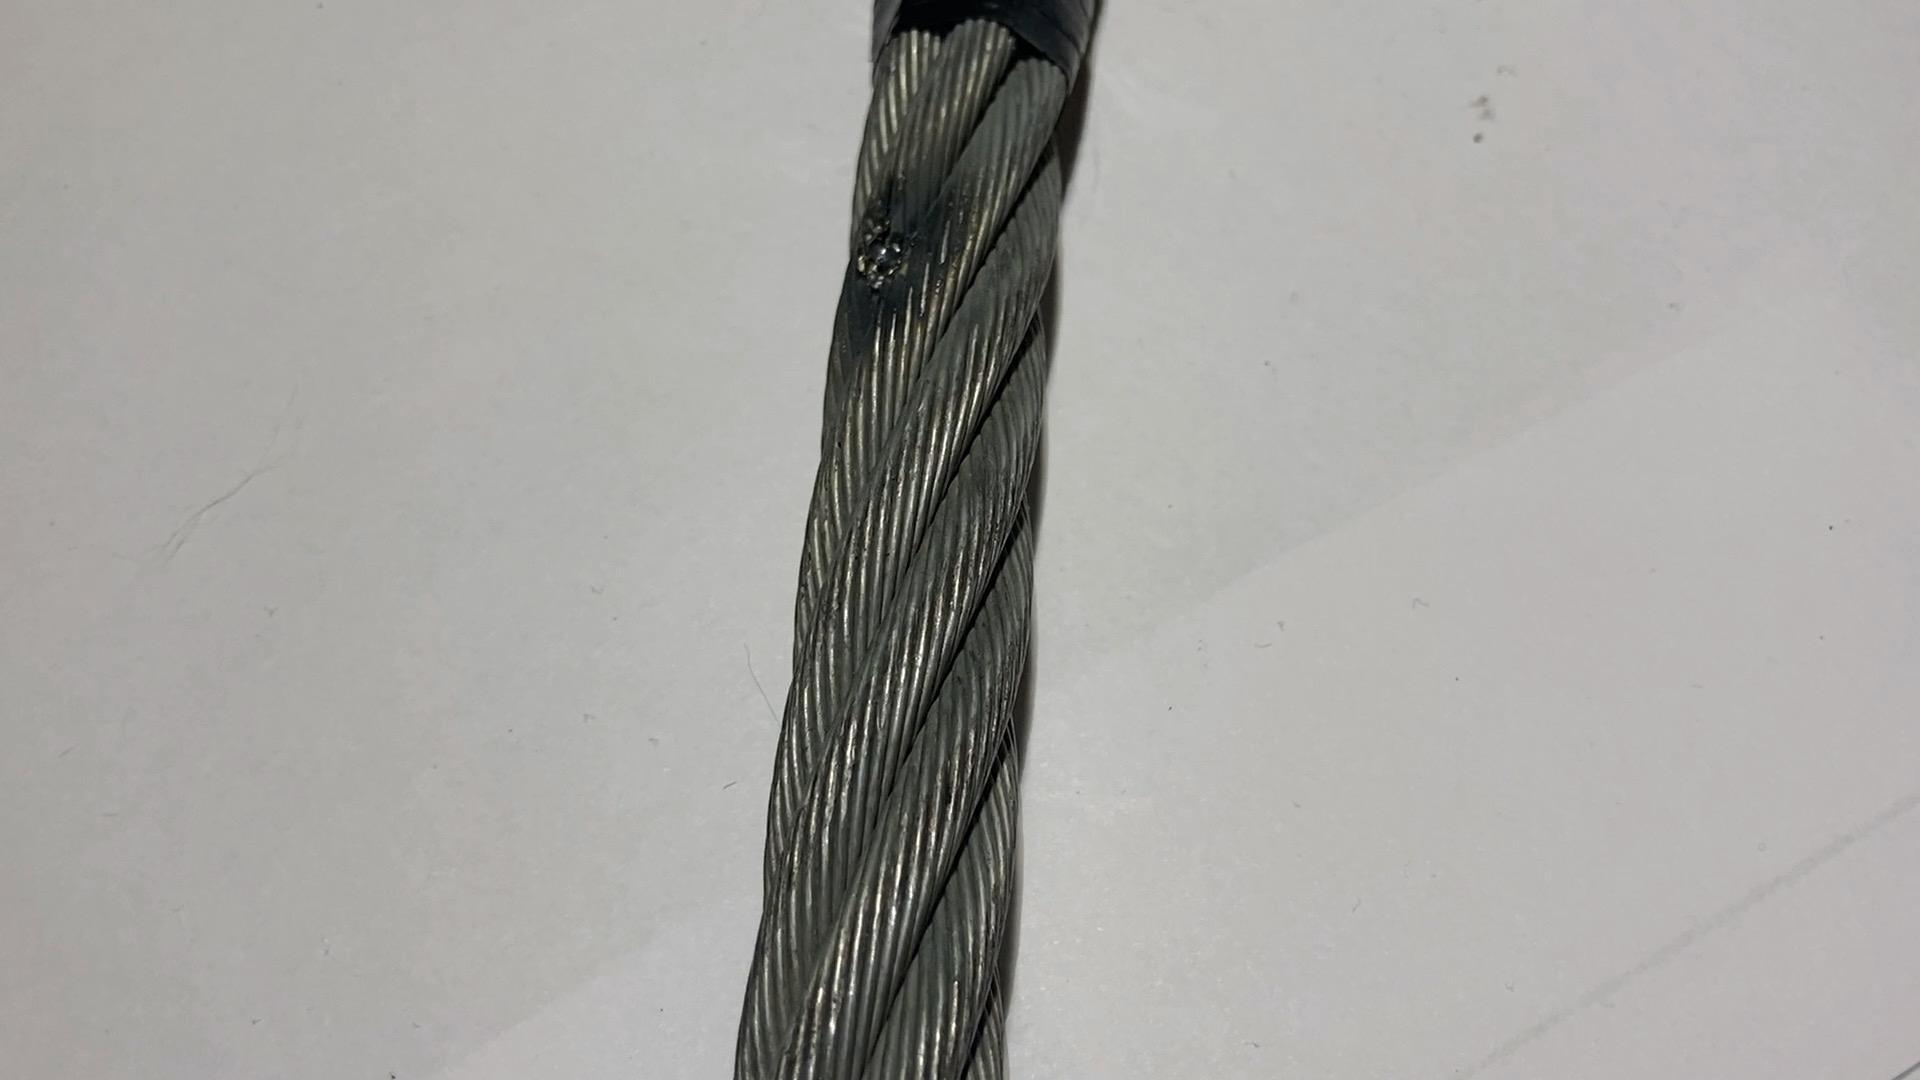thunderbolt: (811, 193, 916, 297)
